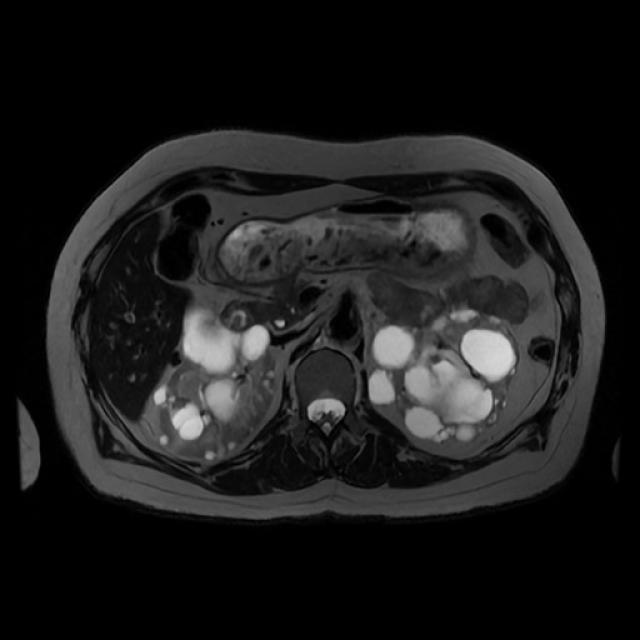sag: (154, 309, 278, 459)
sol: (367, 311, 521, 442)
